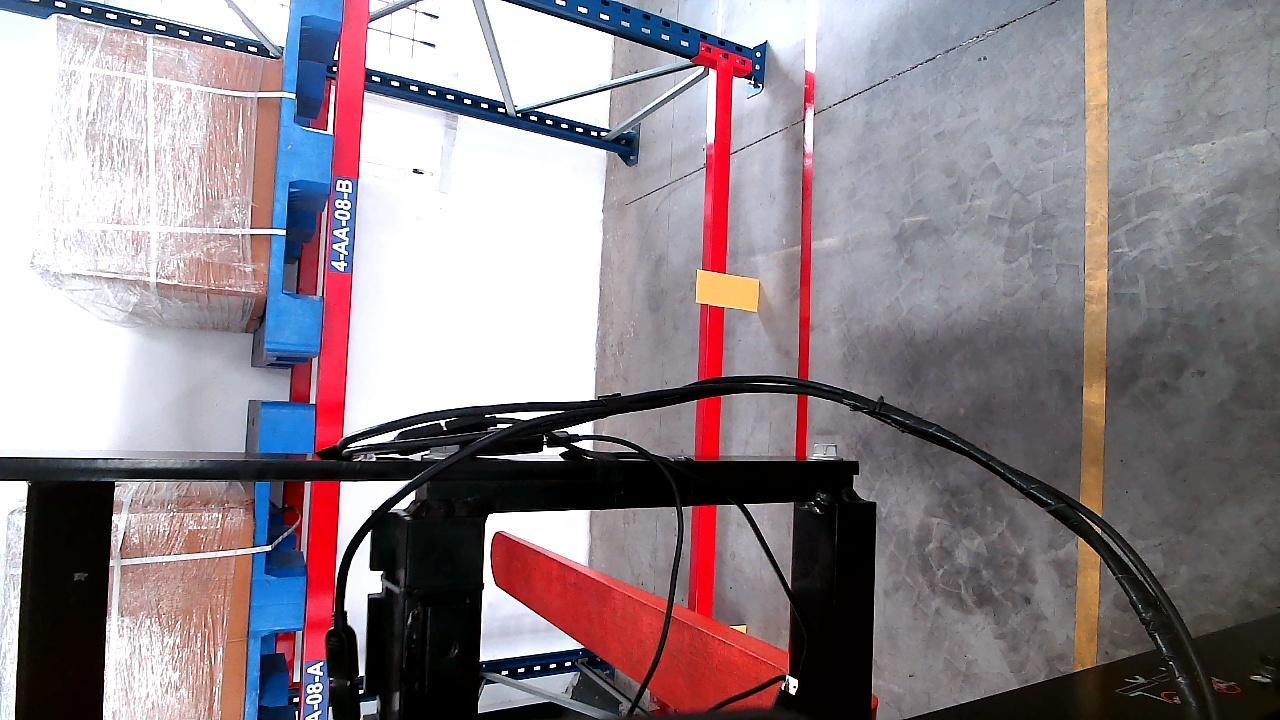red_line: (796, 1, 820, 459)
yellow_line: (1074, 0, 1105, 666)
